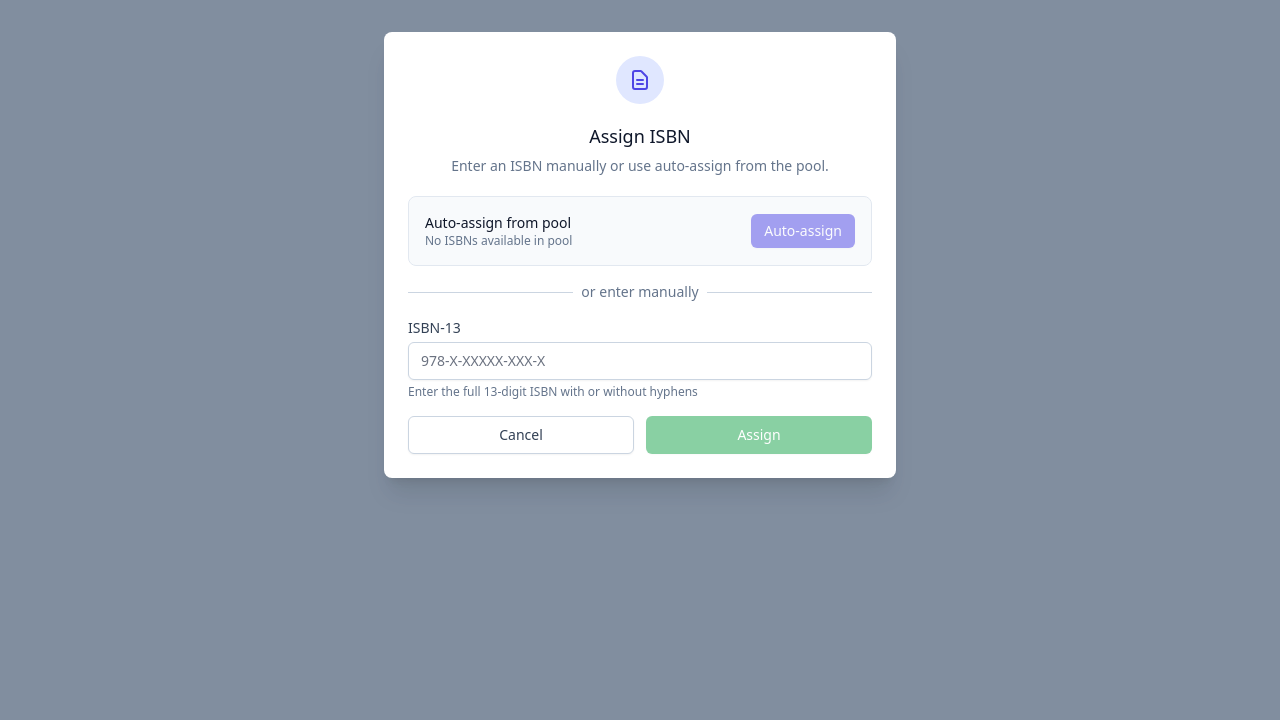
it: ISBNAssignmentModal › validates ISBN format (13 digits)
# Enter invalid ISBN
Type "123" into the field with placeholder "978-X-XXXXX-XXX-X" at (640, 361), box [408,342,872,380]
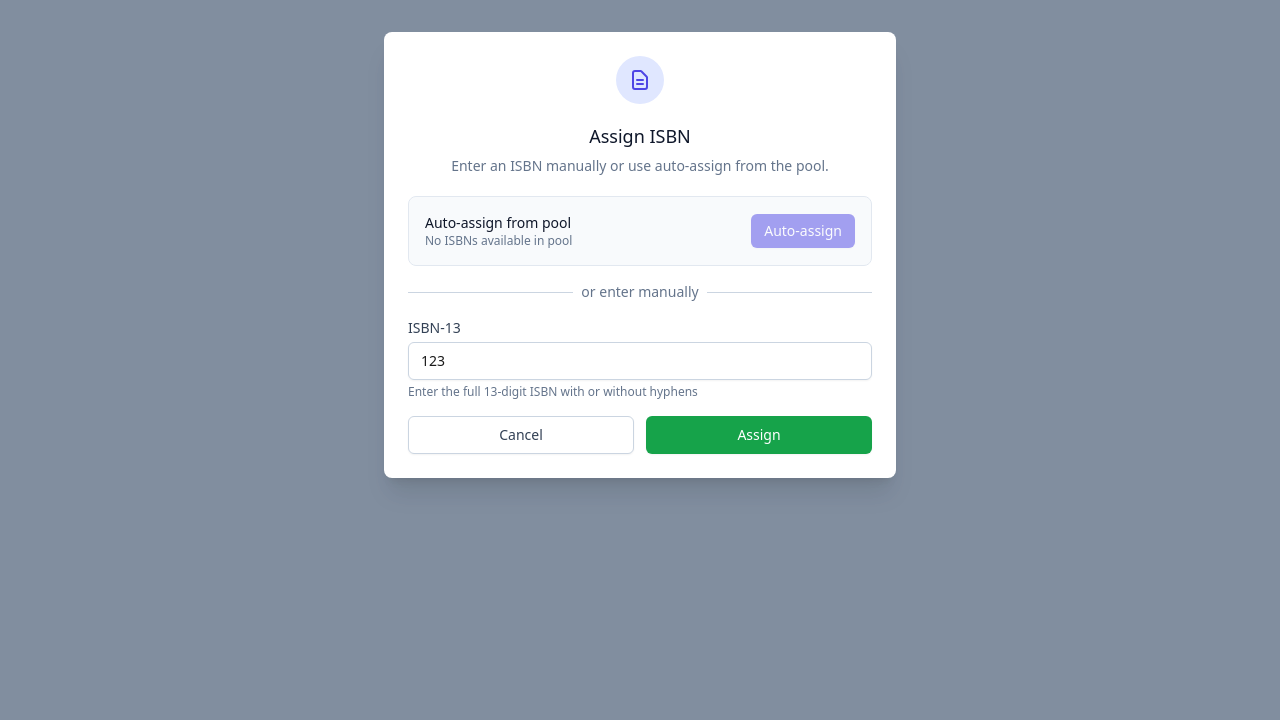
Click the button "Assign" at (759, 435), box [646,416,872,454]
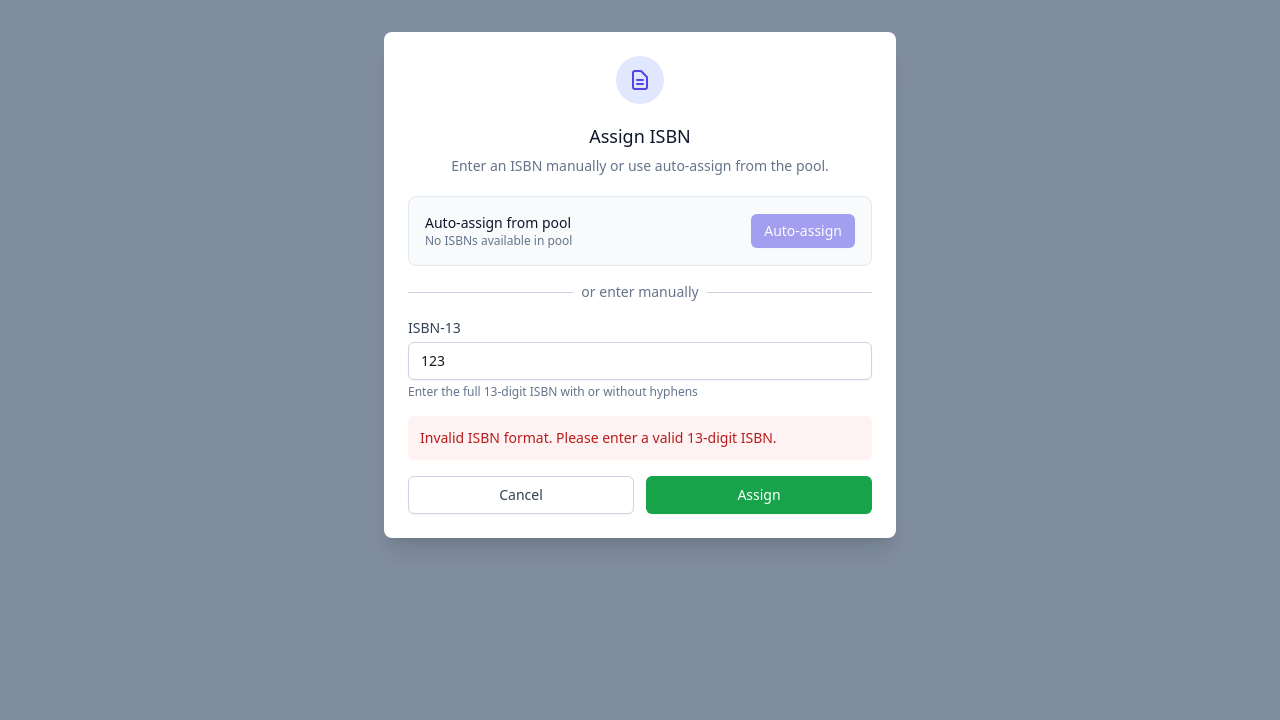
expect the text "Invalid ISBN format. Please enter a valid 13-digit ISBN." is shown: met, box [420,428,777,447]
